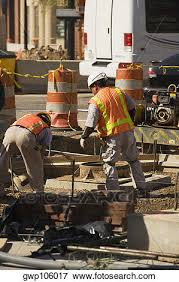helmet: (86, 71, 109, 85)
vest: (94, 87, 137, 136), (13, 114, 46, 148)
